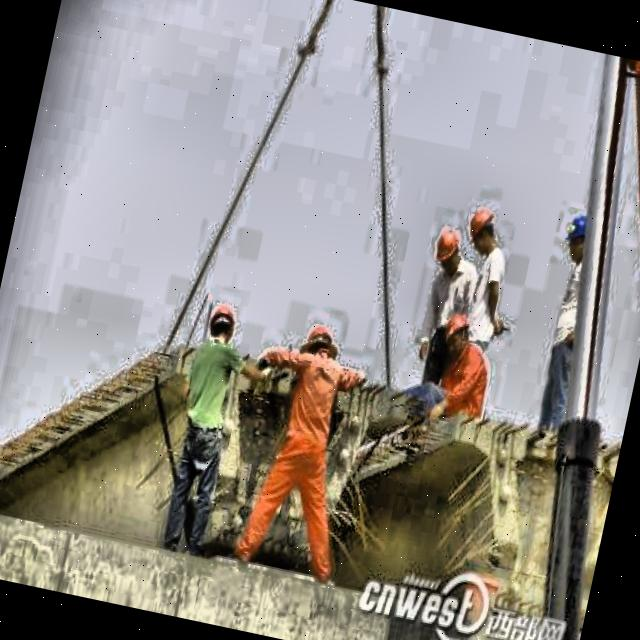helmet: (554, 204, 604, 270), (461, 200, 506, 260), (202, 294, 244, 356), (428, 224, 467, 278), (300, 316, 339, 367), (440, 308, 476, 354)
